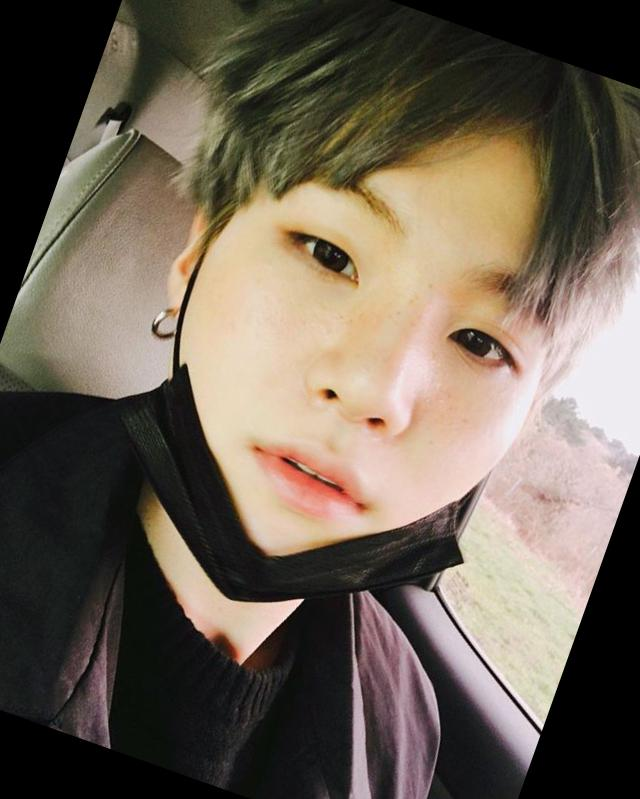mask_weared_incorrect: (125, 160, 560, 636)
